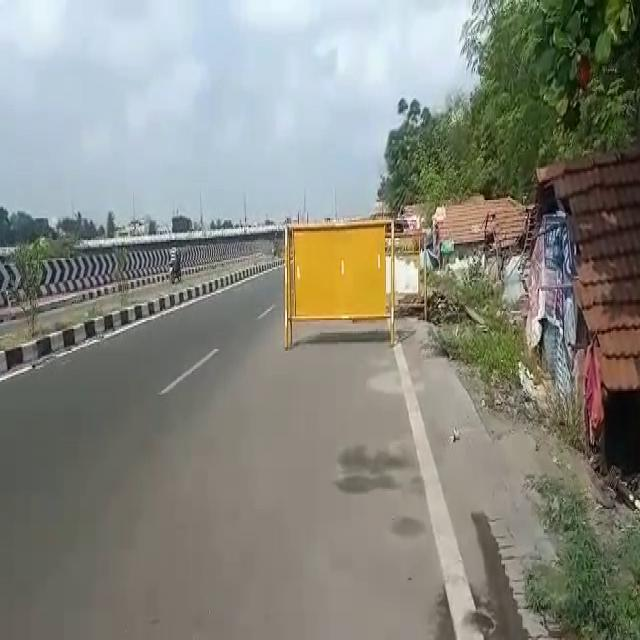fallen_object: (270, 207, 413, 363)
